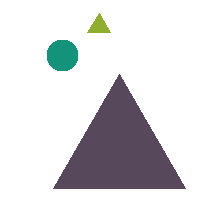circle: (47, 40, 77, 70)
triangle: (53, 74, 185, 188), (87, 13, 110, 32)
